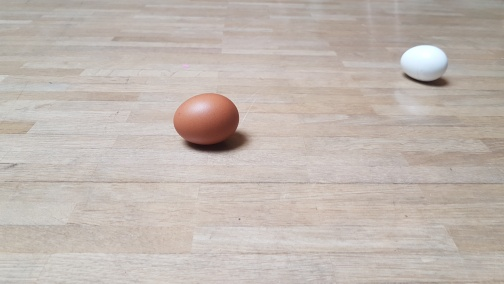egg: (173, 92, 241, 147), (400, 44, 450, 83)
